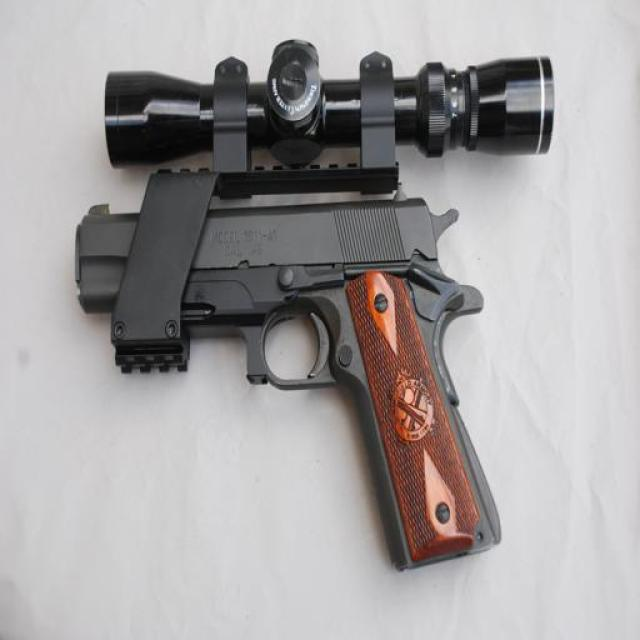pistol: (59, 185, 505, 569)
